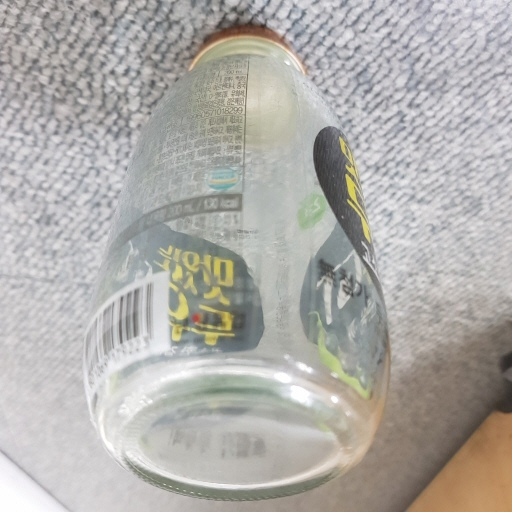Glass_4: (80, 24, 394, 495)
